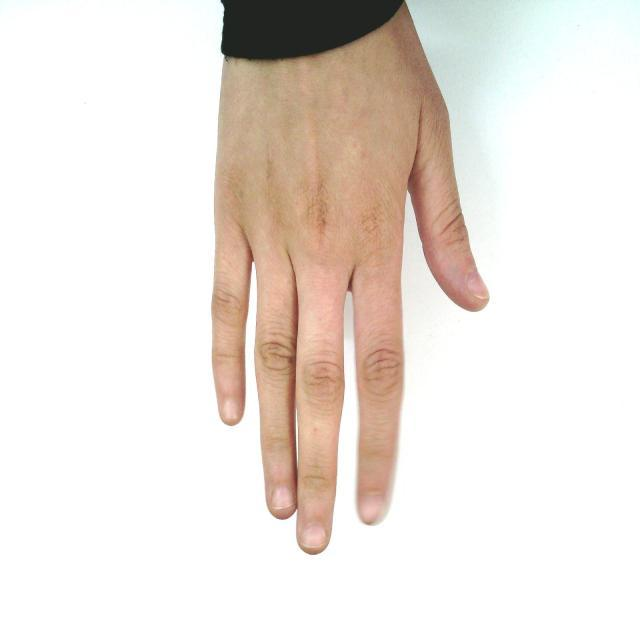Fingernail: (361, 496, 383, 522), (468, 274, 488, 300), (303, 526, 326, 547), (273, 488, 293, 508), (223, 400, 239, 421)
